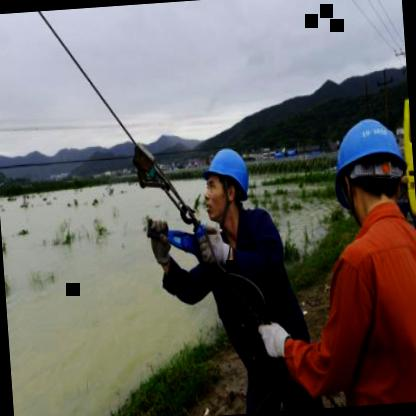helmet: (324, 107, 412, 232), (195, 140, 256, 233)
